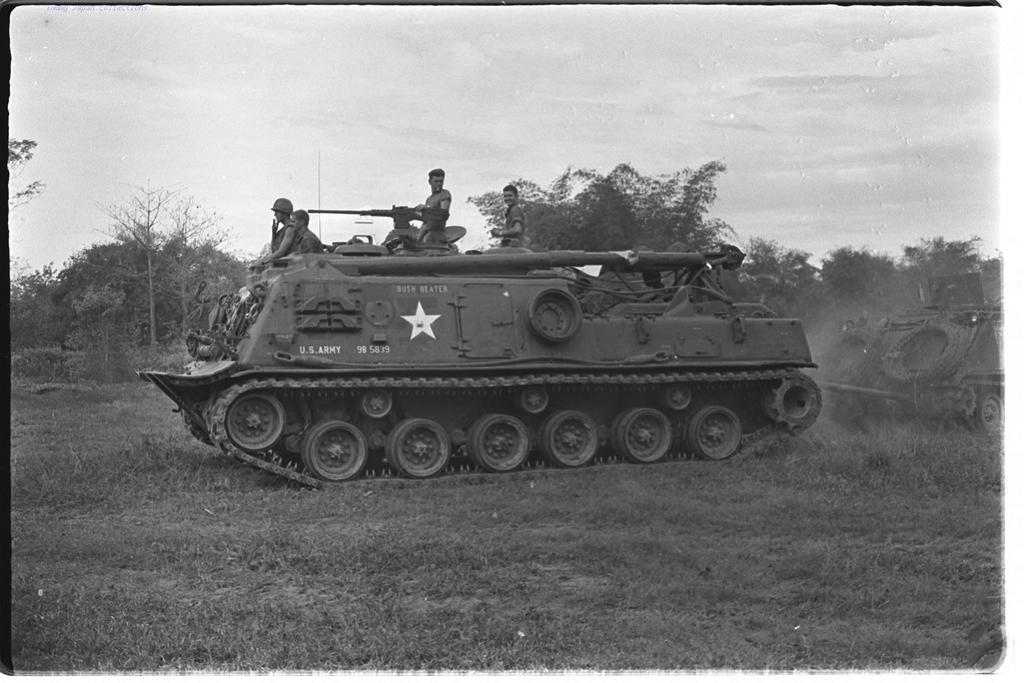Tank: (133, 144, 821, 490), (820, 269, 1004, 436)
